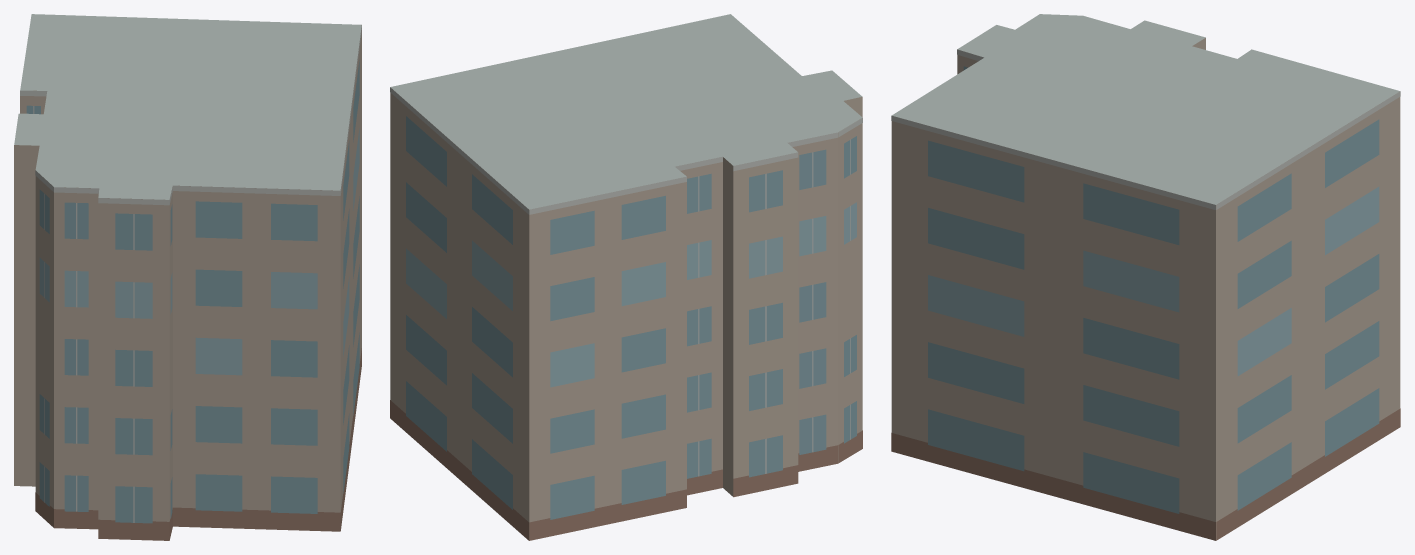
The model's file is survey-upis-32663710.glb.
The picture shows the model from 3 angles, left to right: view 1: azimuth 30°, elevation 25°; view 2: azimuth 150°, elevation 25°; view 3: azimuth 270°, elevation 25°; orthographic projection. The views are drawn at different scales.
Visible parts, largest first — view 1: survey-upis-32663710.tmp; view 2: survey-upis-32663710.tmp; view 3: survey-upis-32663710.tmp.
Part boxes in pixels (x1,y1,x2,y2): survey-upis-32663710.tmp: [14, 14, 361, 540]; survey-upis-32663710.tmp: [390, 14, 862, 540]; survey-upis-32663710.tmp: [891, 14, 1400, 540].
Size of the model in its own units: 18.78 by 15.4 by 21.15.
